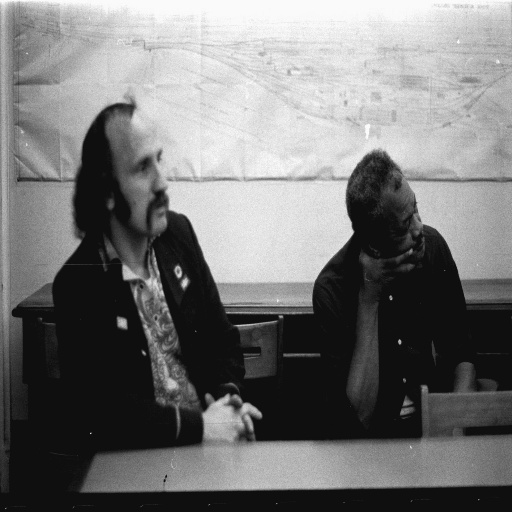hand: (204, 382, 262, 440), (357, 248, 416, 293)
